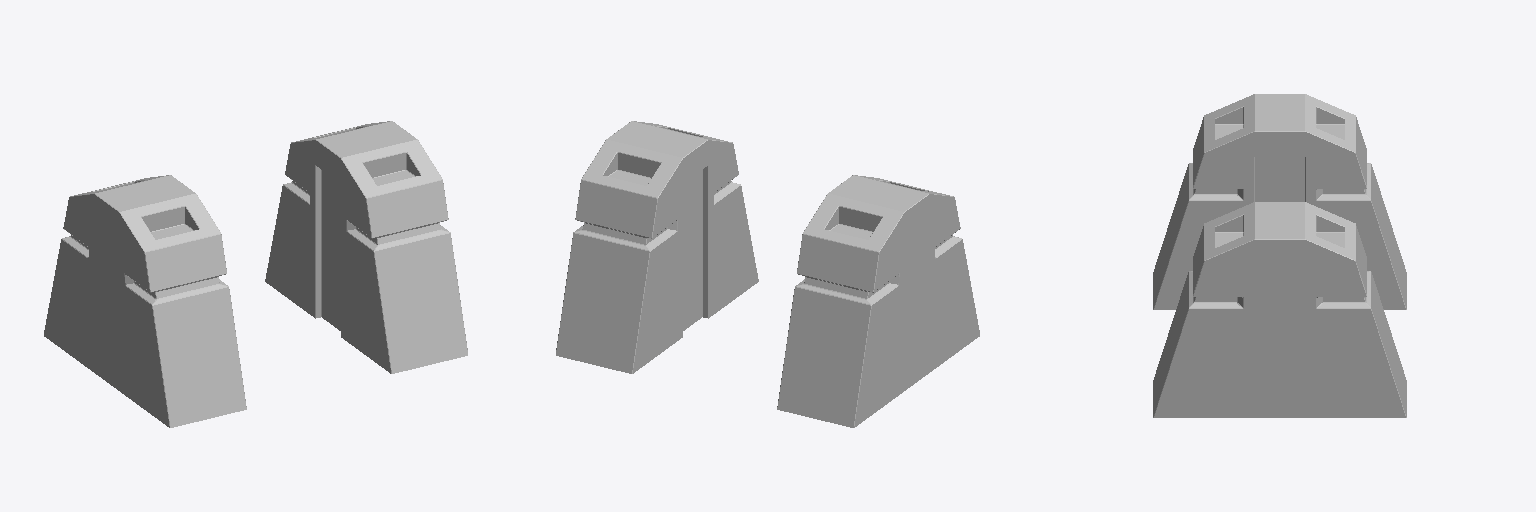
The model's file is door_2_frame.obj.
The picture shows the model from 3 angles: view 1: azimuth 30°, elevation 25°; view 2: azimuth 150°, elevation 25°; view 3: azimuth 270°, elevation 25°; orthographic projection.
Parts seen in each view (by area): view 1: Cube.009; view 2: Cube.009; view 3: Cube.009.
Part boxes in pixels (x1,y1,x2,y2): Cube.009: (44, 121, 467, 427); Cube.009: (556, 121, 979, 427); Cube.009: (1153, 94, 1406, 417).
Bounding box in the file's own units: 6.25 × 3.58 × 4.6.